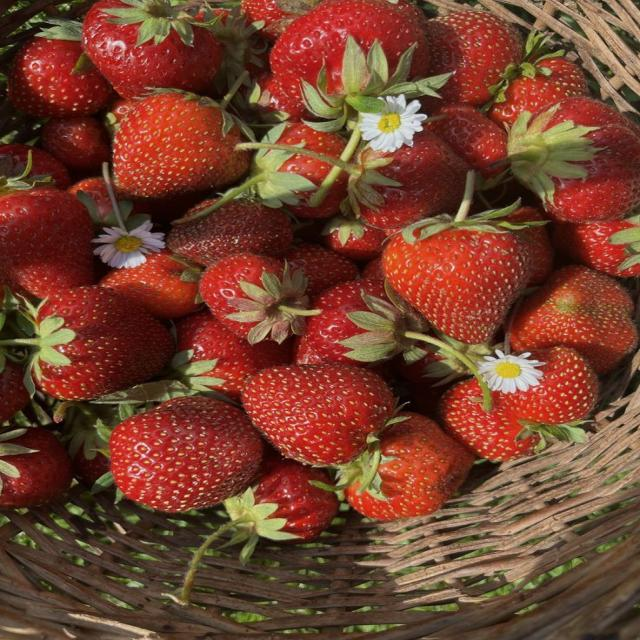strawberry: (180, 445, 339, 603), (383, 212, 530, 343), (439, 347, 598, 461), (110, 397, 263, 512), (508, 96, 639, 222), (34, 286, 173, 400), (242, 363, 393, 465), (271, 0, 429, 95), (193, 123, 346, 219), (114, 92, 250, 197), (346, 412, 474, 520), (511, 266, 638, 373), (82, 0, 221, 97), (351, 131, 468, 231), (176, 310, 291, 399), (200, 254, 315, 343), (0, 188, 93, 297), (8, 21, 113, 117), (225, 455, 339, 542), (488, 32, 589, 125), (426, 11, 523, 106), (167, 199, 293, 265), (439, 380, 539, 461), (299, 280, 386, 365), (99, 249, 201, 318), (509, 347, 598, 424), (425, 104, 507, 178), (203, 6, 268, 95), (0, 428, 72, 508), (255, 123, 345, 186), (553, 217, 639, 277), (63, 404, 112, 487), (283, 243, 358, 296), (42, 116, 110, 174), (0, 144, 70, 189), (251, 73, 310, 121), (323, 216, 386, 260), (68, 177, 116, 227), (241, 0, 296, 42), (519, 226, 554, 285), (0, 360, 29, 423), (402, 380, 448, 418), (72, 447, 110, 487), (105, 96, 137, 137), (361, 256, 385, 279)
